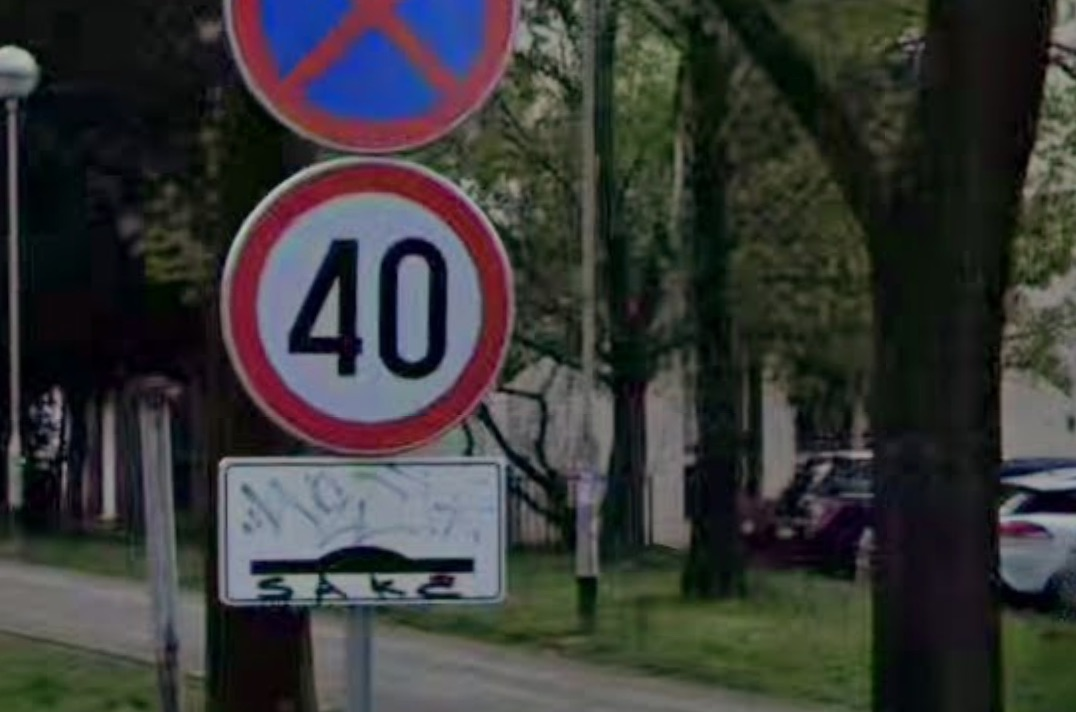Ograničenje brzine 40: (219, 157, 517, 459)
